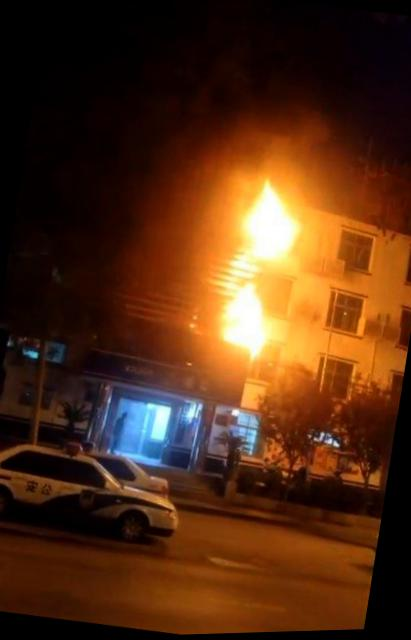fire: (202, 182, 300, 353)
